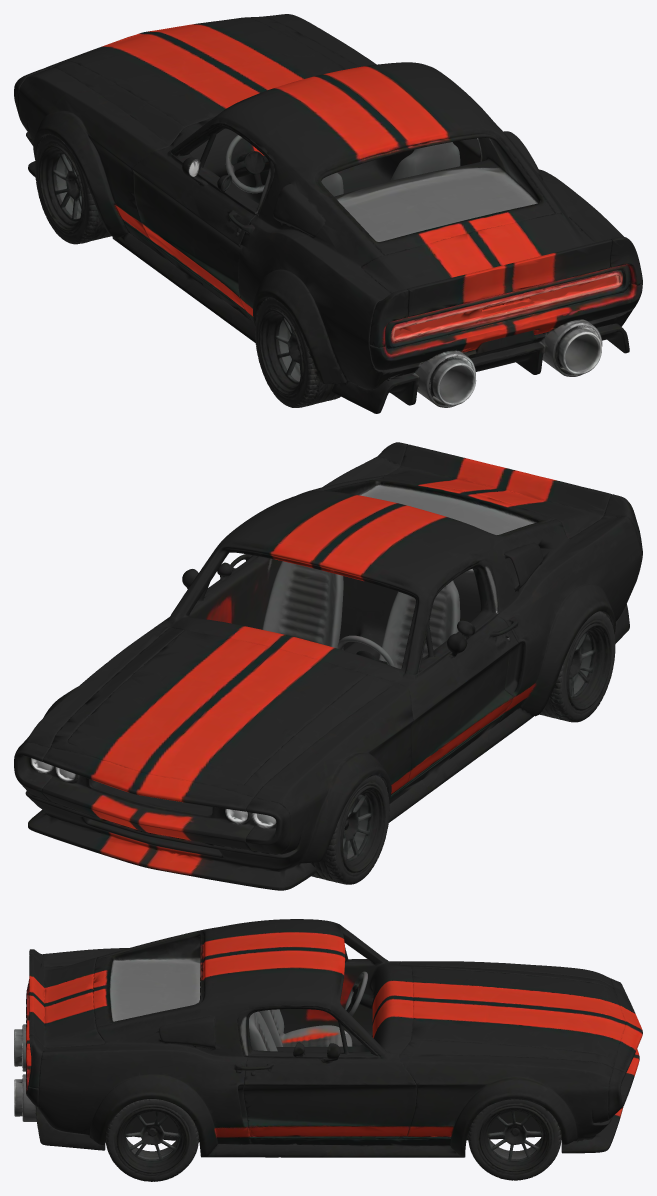
File: qmaro.glb
The picture shows the model from 3 angles, top to bottom: view 1: azimuth 30°, elevation 25°; view 2: azimuth 150°, elevation 25°; view 3: azimuth 270°, elevation 25°; orthographic projection. The views are drawn at different scales.
Visible parts, largest first — view 1: tripo_node_d75bbbff-4d29-491b-83a5-ca16c147af85; view 2: tripo_node_d75bbbff-4d29-491b-83a5-ca16c147af85; view 3: tripo_node_d75bbbff-4d29-491b-83a5-ca16c147af85.
Boxes of the visible parts, x1=… form: tripo_node_d75bbbff-4d29-491b-83a5-ca16c147af85: x1=14, y1=14, x2=642, y2=413; tripo_node_d75bbbff-4d29-491b-83a5-ca16c147af85: x1=14, y1=442, x2=642, y2=890; tripo_node_d75bbbff-4d29-491b-83a5-ca16c147af85: x1=14, y1=919, x2=642, y2=1181.
Bounding box in the file's own units: 0.4616 × 0.2989 × 0.9804.
Materials: 5 (5 with a texture image).
